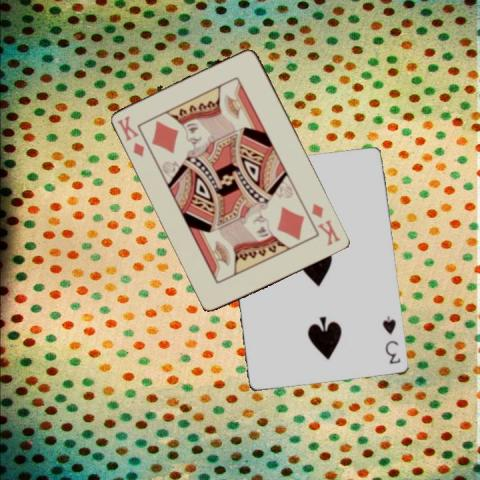3s: (380, 313, 402, 366)
Kd: (114, 112, 153, 158), (309, 201, 342, 248)
